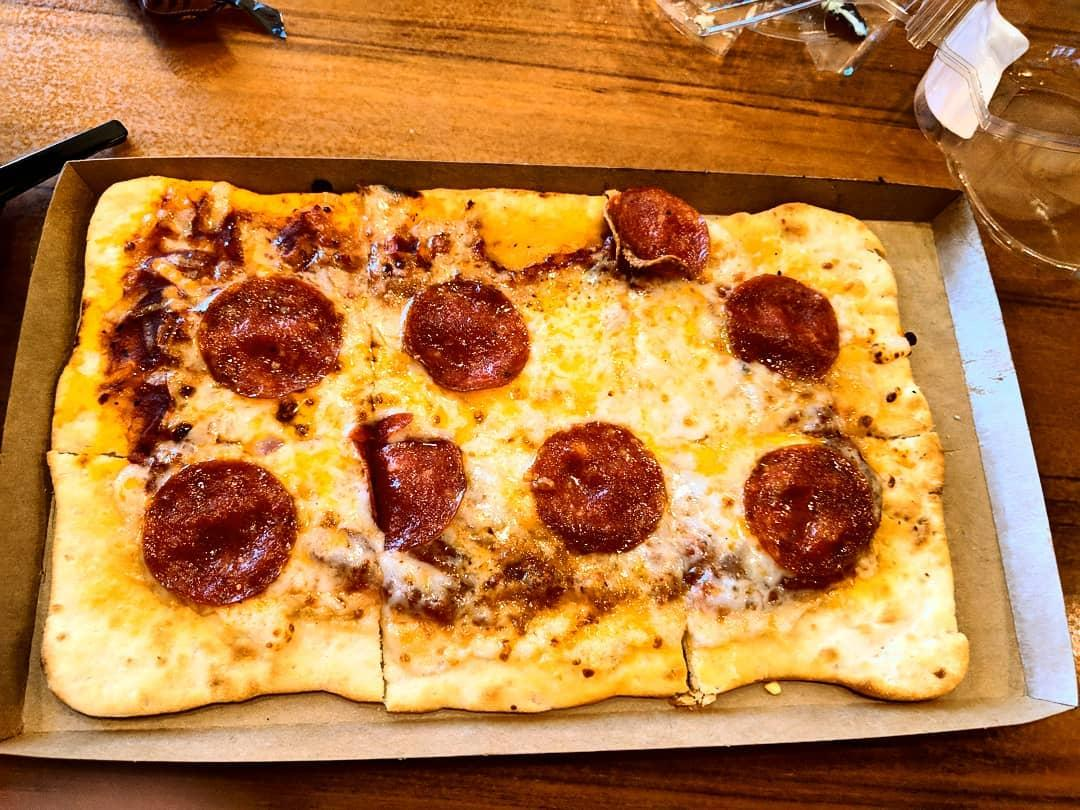Pepperoni: (743, 446, 886, 586), (533, 426, 673, 553), (349, 413, 466, 556), (199, 279, 340, 394), (409, 280, 529, 391), (726, 274, 845, 381), (138, 460, 261, 559), (608, 188, 711, 284)
Pizza: (39, 175, 967, 716)
